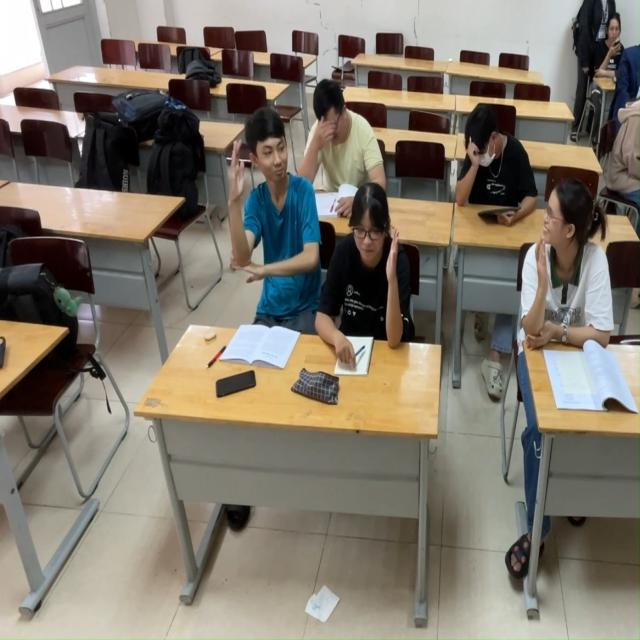raise_hand: (194, 118, 312, 382), (515, 172, 619, 404), (312, 181, 423, 377)
